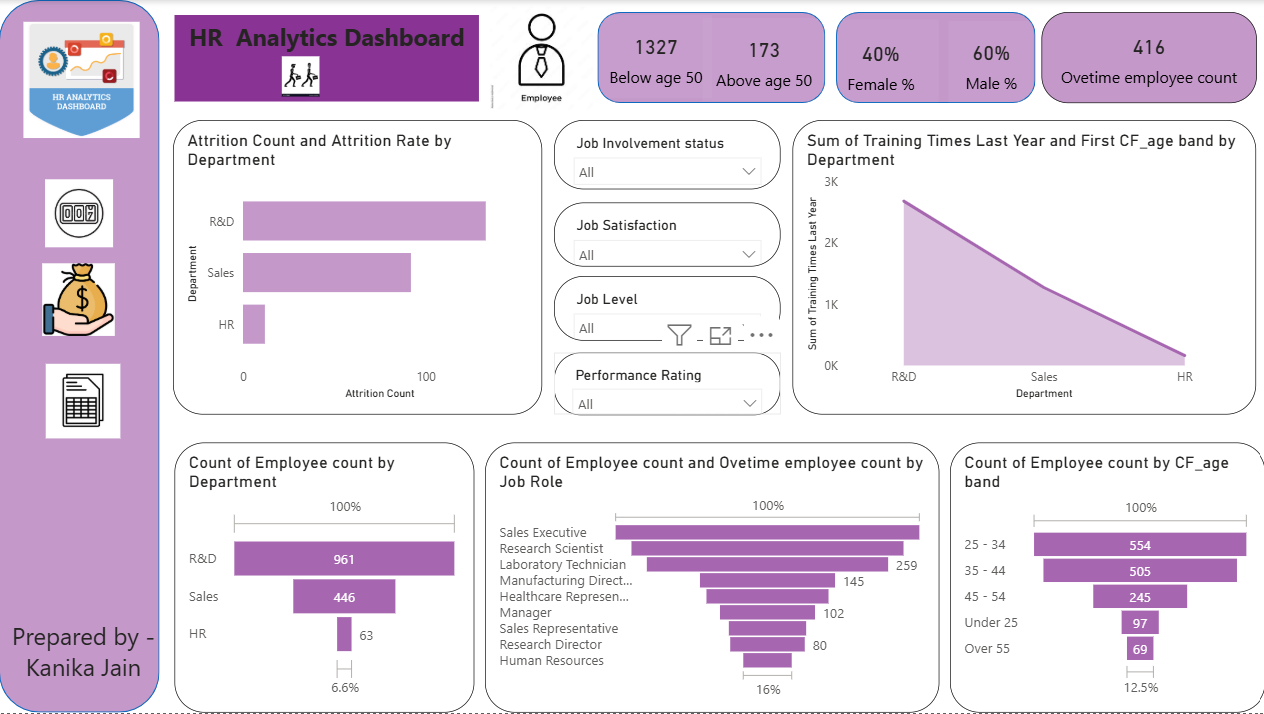

This screenshot's page, from the dashboard's own definition file:
{"tool":"powerbi","page":{"name":"Employee count data","canvas":[1280,720],"ordinal":2},"visuals":[{"type":"funnel","fields":{"Category":["HR.Department"],"Y":["Count(HR.Employee count)"]},"box":[177.2,446.7,302.8,272.6],"z":0},{"type":"funnel","fields":{"Category":["HR.CF_age band"],"Y":["Count(HR.Employee count)"]},"box":[960,446.7,319.5,272.6],"z":1000},{"type":"funnel","fields":{"Category":["HR.Job Role"],"Y":["Count(HR.Employee count)"]},"box":[490.6,446.7,458.8,272.6],"z":2000},{"type":"shape","box":[0,0,162,719.2],"z":3000},{"type":"shape","box":[604.1,12.7,229.9,92],"z":4000},{"type":"card","fields":{"Values":["Dax measures.Below age 50"]},"box":[605.7,15.9,114.2,84],"z":5000},{"type":"card","fields":{"Values":["Dax measures.Above age 50"]},"box":[710.3,17.4,123.7,84],"z":6000},{"type":"shape","box":[845.1,12.7,201.4,92],"z":7000},{"type":"card","fields":{"Values":["Dax measures.Male %"]},"box":[959.2,20.6,85.6,85.6],"z":8000},{"type":"card","fields":{"Values":["Dax measures.Female %"]},"box":[830.8,19,117.3,88.8],"z":9000},{"type":"card","fields":{"Values":["Dax measures.Ovetime employee count"]},"box":[1052.8,12.7,217.2,92],"z":10000},{"type":"image","box":[268.2,51.2,111,53],"z":11000},{"type":"areaChart","fields":{"Category":["HR.Department"],"Y":["Sum(HR.Training Times Last Year)"]},"box":[801.1,121.3,468,297.2],"z":12000},{"type":"textbox","box":[177.7,15.4,307.5,87.1],"z":13000},{"type":"image","box":[230.6,51.2,148.6,51.2],"z":14000},{"type":"image","box":[454.4,1.7,186.2,114.4],"z":15000},{"type":"barChart","fields":{"Category":["HR.Department"],"Y":["Dax measures.Attrition Count"]},"box":[175.9,121.3,372.4,297.2],"z":16000},{"type":"slicer","fields":{"Values":["HR.Job Involvement status"]},"box":[560.3,121.3,228.9,70],"z":17000},{"type":"slicer","fields":{"Values":["HR.Job Satisfaction"]},"box":[560.3,205,228.9,64.9],"z":18000},{"type":"slicer","fields":{"Values":["HR.Job Level"]},"box":[560.3,278.6,228.6,65.1],"z":19000},{"type":"slicer","fields":{"Values":["HR.Performance Rating"]},"box":[560.3,355.3,228.9,63.2],"z":20000},{"type":"image","box":[14.5,175.9,130.7,79.1],"z":21000},{"type":"image","box":[8.1,259.8,145.2,83.9],"z":22000},{"type":"image","box":[37.1,361.4,93.6,85.5],"z":23000},{"type":"image","box":[0,16.1,166.2,127.5],"z":24000},{"type":"textbox","box":[4.8,619.6,161.3,100],"z":25000}]}

Visuals, with their boxes in screenshot pixels (x1, y1, x2, y2), scaled from the page's 1280x720 canvas onto the 1264x714 screenshot:
funnel - HR.Department x Count(HR.Employee count): <region>175, 443, 474, 713</region>
funnel - HR.CF_age band x Count(HR.Employee count): <region>948, 443, 1263, 713</region>
funnel - HR.Job Role x Count(HR.Employee count): <region>484, 443, 938, 713</region>
shape: <region>0, 0, 160, 713</region>
shape: <region>597, 13, 824, 104</region>
card - Dax measures.Below age 50: <region>598, 16, 711, 99</region>
card - Dax measures.Above age 50: <region>701, 17, 824, 101</region>
shape: <region>835, 13, 1033, 104</region>
card - Dax measures.Male %: <region>947, 20, 1032, 105</region>
card - Dax measures.Female %: <region>820, 19, 936, 107</region>
card - Dax measures.Ovetime employee count: <region>1040, 13, 1254, 104</region>
image: <region>265, 51, 374, 103</region>
areaChart - HR.Department x Sum(HR.Training Times Last Year): <region>791, 120, 1253, 415</region>
textbox: <region>175, 15, 479, 102</region>
image: <region>228, 51, 374, 102</region>
image: <region>449, 2, 633, 115</region>
barChart - HR.Department x Dax measures.Attrition Count: <region>174, 120, 541, 415</region>
slicer - HR.Job Involvement status: <region>553, 120, 779, 190</region>
slicer - HR.Job Satisfaction: <region>553, 203, 779, 268</region>
slicer - HR.Job Level: <region>553, 276, 779, 341</region>
slicer - HR.Performance Rating: <region>553, 352, 779, 415</region>
image: <region>14, 174, 143, 253</region>
image: <region>8, 258, 151, 341</region>
image: <region>37, 358, 129, 443</region>
image: <region>0, 16, 164, 142</region>
textbox: <region>5, 614, 164, 713</region>
